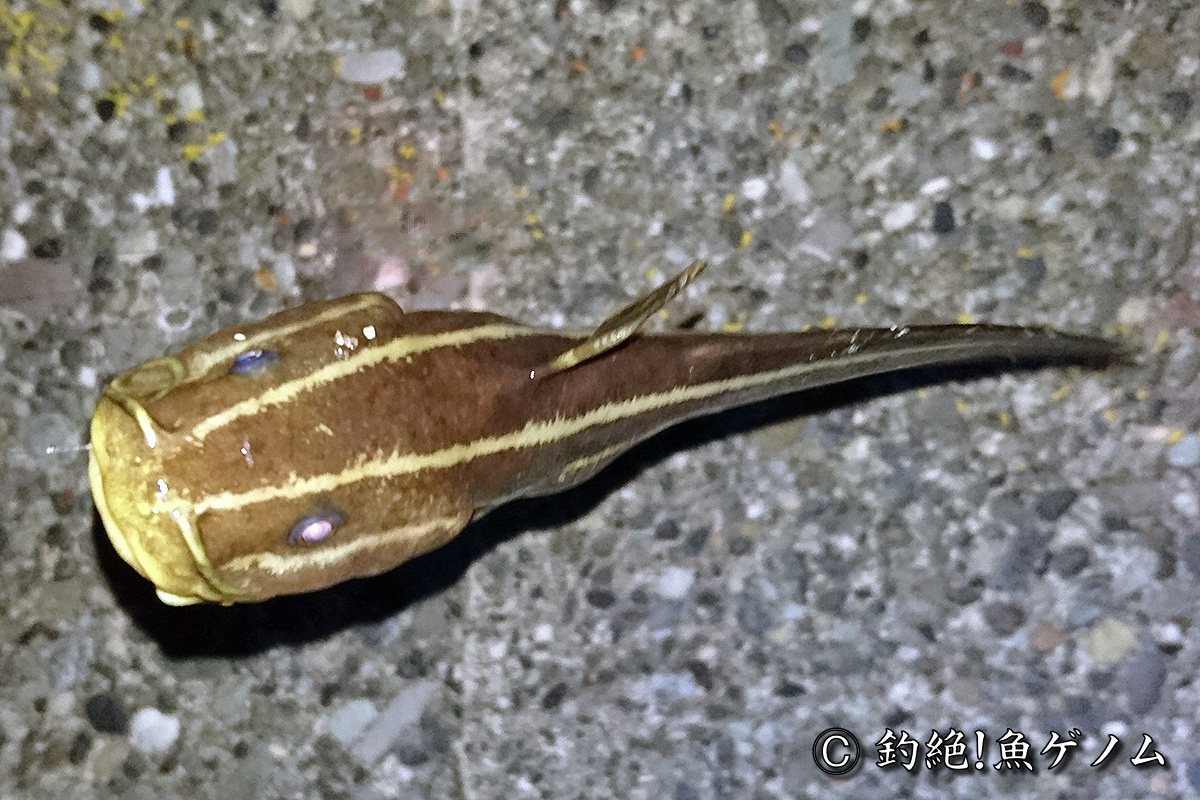gonzui: (57, 276, 1176, 618)
